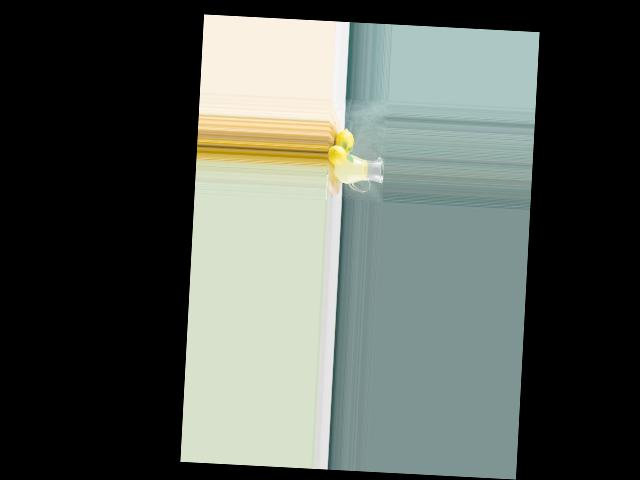lemon: (328, 141, 348, 166)
